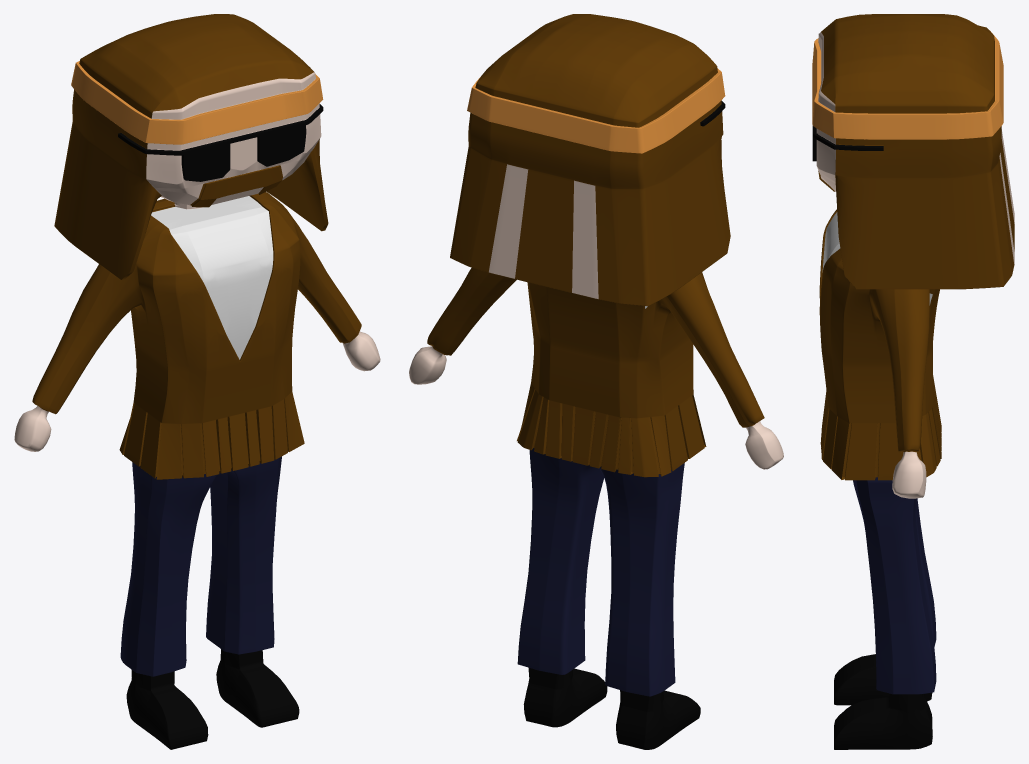
The model's file is first_extra_npc.fbx.
3 renders of one model, left to right at view 1: azimuth 30°, elevation 25°; view 2: azimuth 150°, elevation 25°; view 3: azimuth 270°, elevation 25°, orthographic. The views are drawn at different scales.
Visible parts, largest first — view 1: NPC_Base_Model_Male:polySurface1; view 2: NPC_Base_Model_Male:polySurface1; view 3: NPC_Base_Model_Male:polySurface1.
Boxes of the visible parts, <box> form: NPC_Base_Model_Male:polySurface1: <box>14,14,380,749</box>; NPC_Base_Model_Male:polySurface1: <box>409,14,783,749</box>; NPC_Base_Model_Male:polySurface1: <box>812,14,1014,749</box>.
Size of the model in its own units: 134 by 239 by 63.76.
